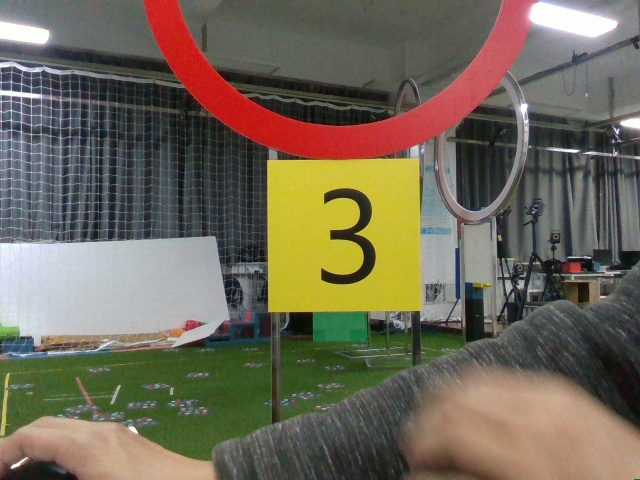target: (272, 158, 423, 313)
